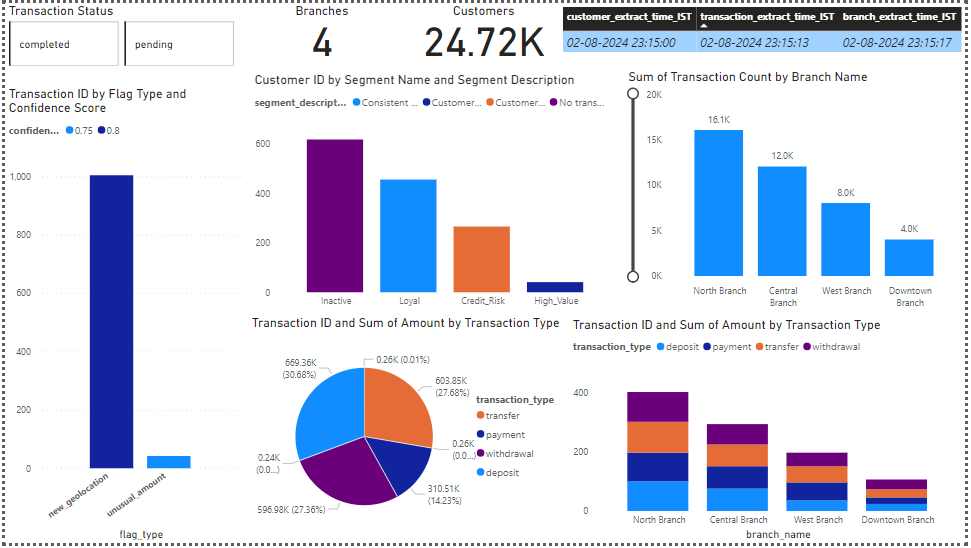

What the dashboard file says about the page in this screenshot:
{"tool":"powerbi","page":{"name":"Page 1","canvas":[1280,720],"ordinal":0},"visuals":[{"type":"columnChart","title":"Sum of Transaction Count by Branch Name","fields":{"Category":["gold_comprehensive_aggregated.branch_name"],"Y":["Sum(gold_comprehensive_aggregated.transaction_count)"]},"box":[826.7,88.3,453.3,326.7],"z":0},{"type":"card","title":"Customers","fields":{"Values":["CountNonNull(gold_comprehensive_aggregated.customer_name)"]},"box":[512.9,0,252.9,91.4],"z":1},{"type":"card","title":"Branches","fields":{"Values":["Count(gold_comprehensive_aggregated.branch_name)"]},"box":[324.3,0,197.1,91.4],"z":2},{"type":"columnChart","title":"Transaction ID and Sum of Amount by Transaction Type","fields":{"Category":["gold_joined_transactions_customers_branches.branch_name"],"Y":["CountNonNull(gold_joined_transactions_customers_branches.transaction_id)"],"Series":["gold_joined_transactions_customers_branches.transaction_type"]},"box":[752,418,528,302],"z":3},{"type":"pieChart","title":"Transaction ID and Sum of Amount by Transaction Type","fields":{"Category":["gold_joined_transactions_customers_branches.transaction_type"],"Y":["CountNonNull(gold_joined_transactions_customers_branches.transaction_id)","Sum(gold_joined_transactions_customers_branches.amount)"]},"box":[324,416,428,304],"z":4},{"type":"advancedSlicerVisual","title":"Transaction Status","fields":{"Values":["gold_joined_transactions_customers_branches.status"]},"box":[0,0,466.7,225],"z":7},{"type":"columnChart","title":"Transaction ID by Flag Type and Confidence Score","fields":{"Category":["gold_fraud_flags.flag_type"],"Y":["CountNonNull(gold_fraud_flags.transaction_id)"],"Series":["gold_fraud_flags.confidence_score"]},"box":[0,110,324,610],"z":8},{"type":"columnChart","title":"Customer ID by Segment Name and Segment Description","fields":{"Category":["gold_customer_segments.segment_name"],"Y":["CountNonNull(gold_customer_segments.customer_id)"],"Series":["gold_customer_segments.segment_description"]},"box":[328.3,91.7,490,323.3],"z":9},{"type":"tableEx","fields":{"Values":["gold_joined_transactions_customers_branches.customer_extract_time_IST","gold_joined_transactions_customers_branches.transaction_extract_time_IST","gold_joined_transactions_customers_branches.branch_extract_time_IST"]},"box":[738,0,542,92],"z":10}]}

Visuals, with their boxes in screenshot pixels (x1, y1, x2, y2), scaled from the page's 1280x720 canvas onto the 971x548 screenshot:
"Sum of Transaction Count by Branch Name" columnChart: 627 67 970 316
"Customers" card: 389 0 581 70
"Branches" card: 246 0 396 70
"Transaction ID and Sum of Amount by Transaction Type" columnChart: 570 318 970 547
"Transaction ID and Sum of Amount by Transaction Type" pieChart: 246 317 570 547
"Transaction Status" advancedSlicerVisual: 0 0 354 171
"Transaction ID by Flag Type and Confidence Score" columnChart: 0 84 246 547
"Customer ID by Segment Name and Segment Description" columnChart: 249 70 621 316
tableEx - gold_joined_transactions_customers_branches.customer_extract_time_IST x gold_joined_transactions_customers_branches.transaction_extract_time_IST: 560 0 970 70
